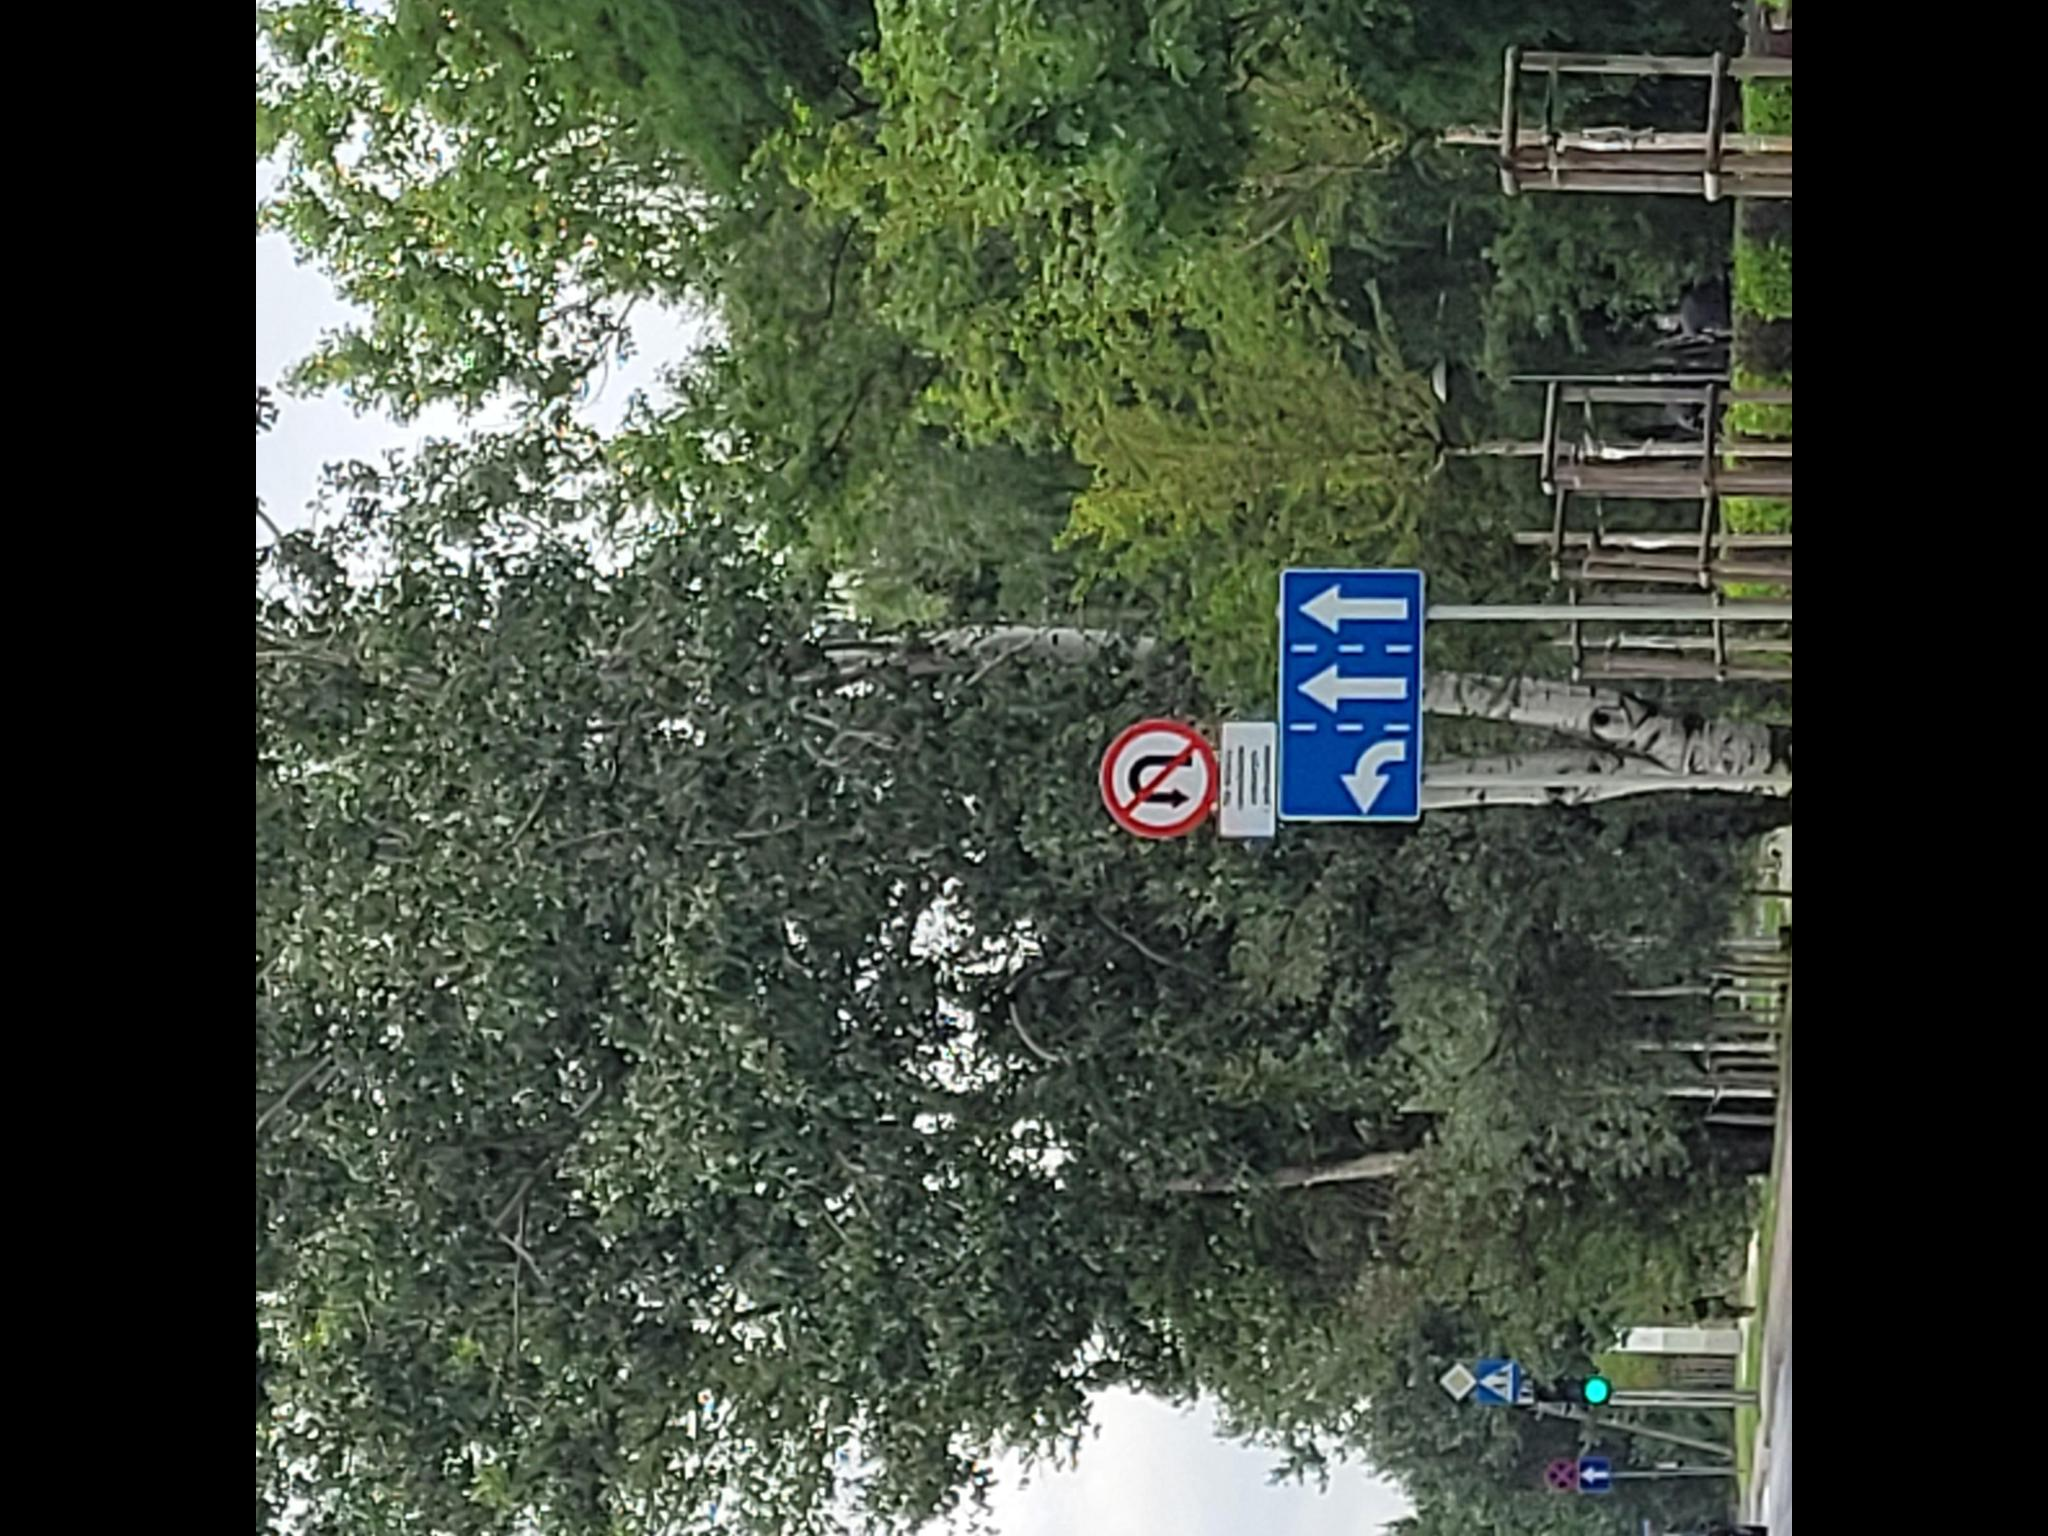information: (1477, 1360, 1517, 1404), (1438, 1362, 1476, 1402), (1580, 1459, 1608, 1488)
other: (1279, 568, 1424, 818)
prohibitory: (1098, 716, 1221, 839), (1543, 1457, 1579, 1492)
